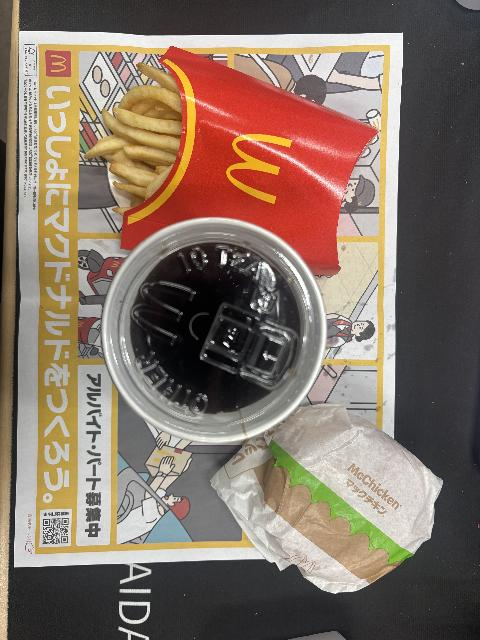burger: (215, 399, 449, 593)
drink: (97, 217, 327, 442)
fries: (100, 43, 378, 277)
